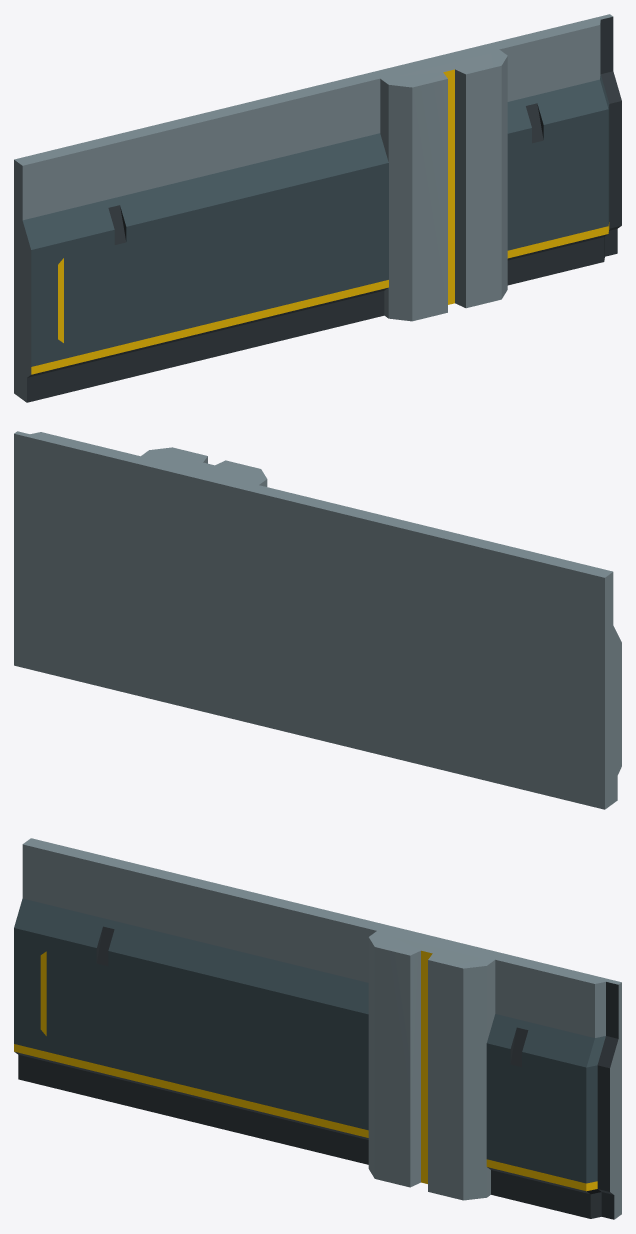
Rendered from Wall_type_C_040.fbx.
The picture shows the model from 3 angles, top to bottom: view 1: azimuth 30°, elevation 25°; view 2: azimuth 150°, elevation 25°; view 3: azimuth 330°, elevation 25°; orthographic projection.
Visible parts, largest first — view 1: Wall_type_C_040; view 2: Wall_type_C_040; view 3: Wall_type_C_040.
Boxes of the visible parts, x1,y1,x2,y2 form: Wall_type_C_040: (14, 14, 621, 402); Wall_type_C_040: (14, 431, 621, 809); Wall_type_C_040: (14, 838, 621, 1219).
Size of the model in its own units: 400 by 30 by 150.
